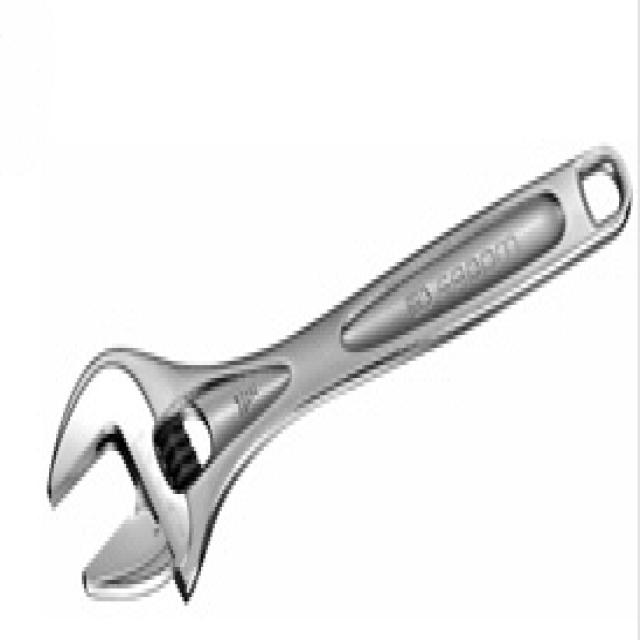wrench: (31, 106, 640, 610)
